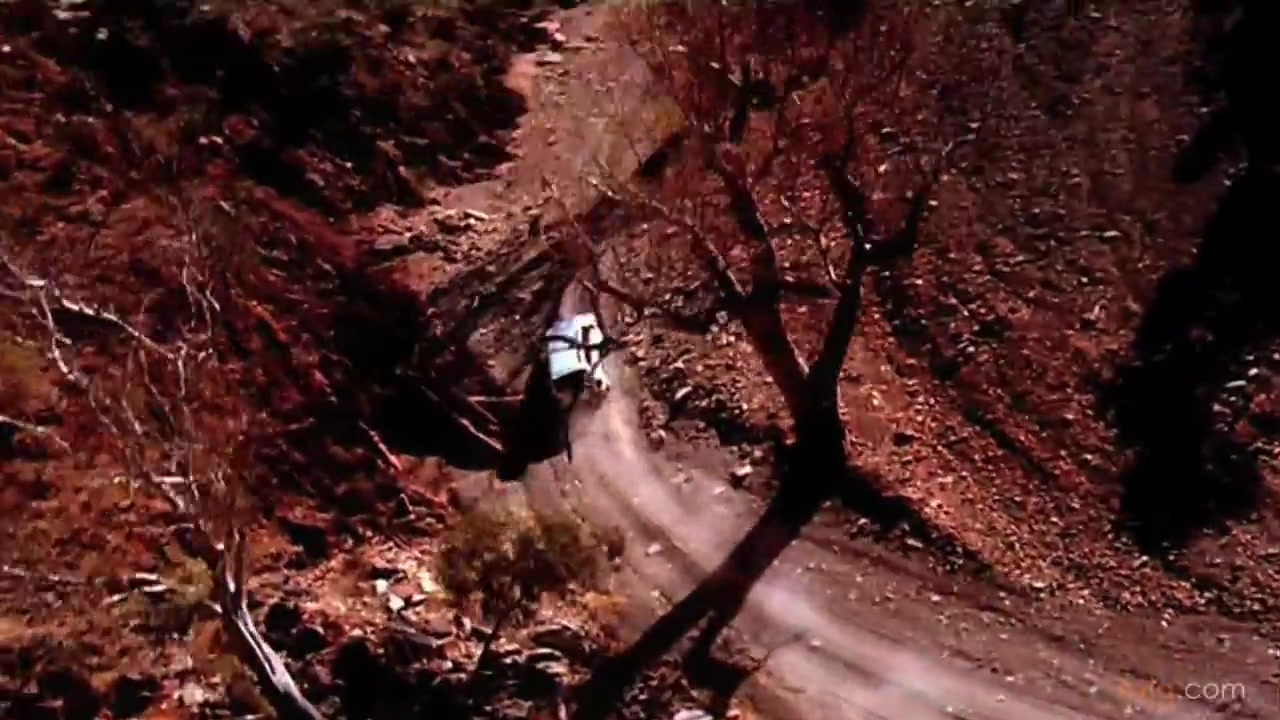car: (542, 311, 610, 405)
